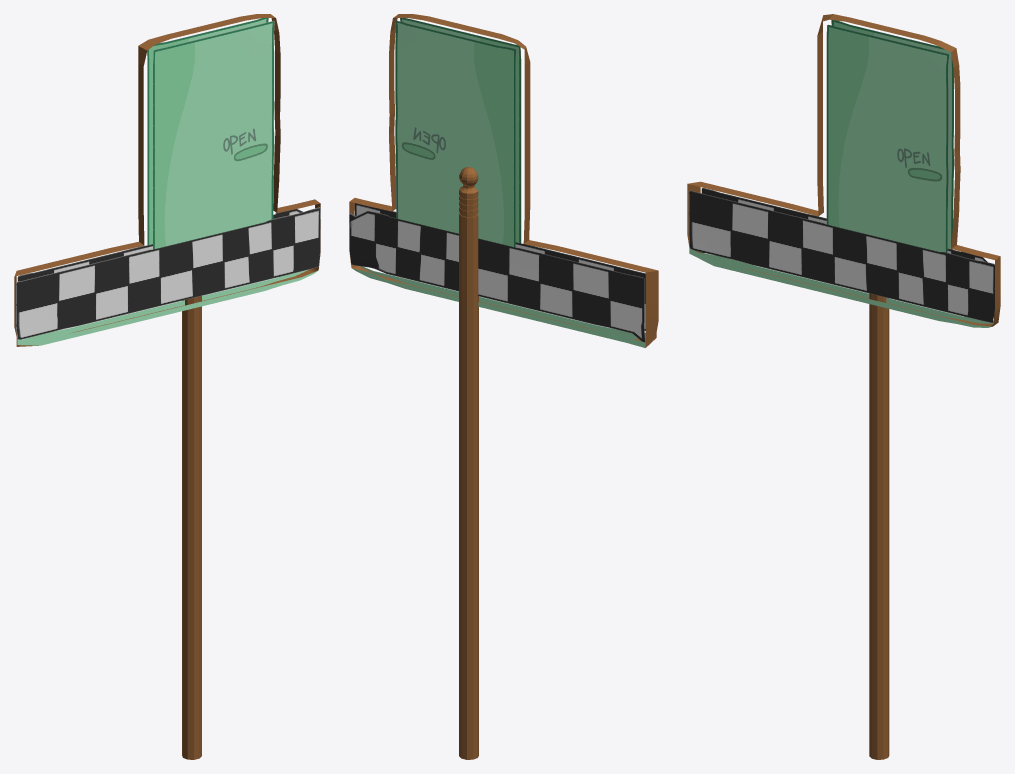
Rendered from Escena9_Puerta.fbx.
3 renders of one model, left to right at view 1: azimuth 30°, elevation 25°; view 2: azimuth 150°, elevation 25°; view 3: azimuth 330°, elevation 25°, orthographic.
Parts seen in each view (by area): view 1: pCylinder3; view 2: pCylinder3; view 3: pCylinder3.
Boxes of the visible parts, left/top/right/bottom form: pCylinder3: left=14, top=14, right=320, bottom=759; pCylinder3: left=349, top=14, right=658, bottom=759; pCylinder3: left=687, top=14, right=1000, bottom=759.
Bounding box in the file's own units: 5.79 × 13.17 × 0.3907.
